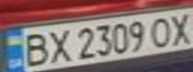0: (112, 20, 133, 55)
2: (72, 24, 96, 61)
3: (93, 21, 115, 57)
9: (127, 17, 151, 52)
B: (18, 29, 54, 69)
O: (145, 14, 175, 48)
X: (42, 27, 72, 65), (163, 9, 193, 46)
